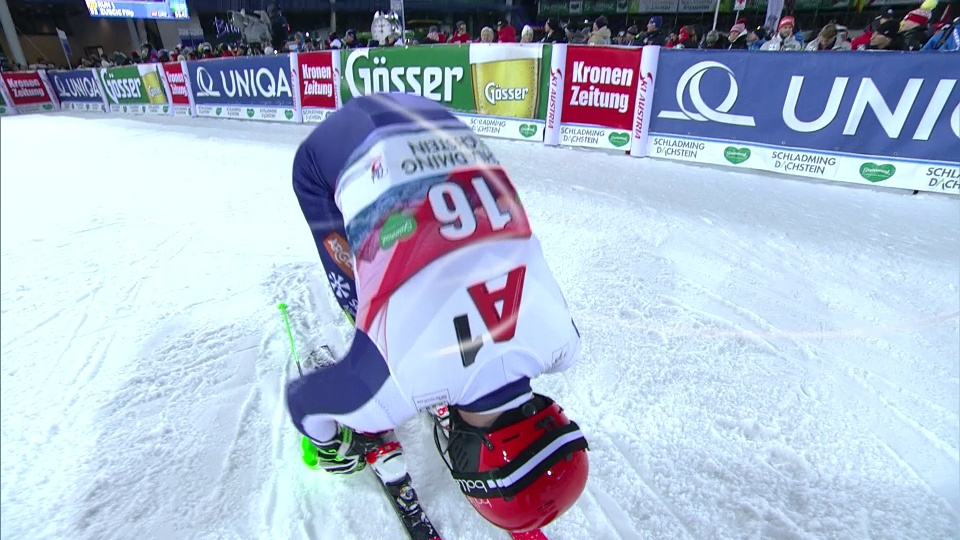a1: (446, 268, 534, 364)
goesser: (346, 45, 480, 104), (480, 70, 536, 112)
kronenzeitung: (571, 58, 635, 119), (299, 58, 337, 106), (3, 74, 47, 106), (161, 66, 190, 106)
schladming: (768, 143, 837, 179), (647, 137, 706, 164), (561, 126, 605, 148)
steiermark: (858, 162, 897, 186), (723, 144, 754, 164), (519, 123, 541, 141), (608, 133, 630, 151)
uniqa: (654, 48, 960, 148), (186, 60, 298, 111), (52, 74, 98, 102)
